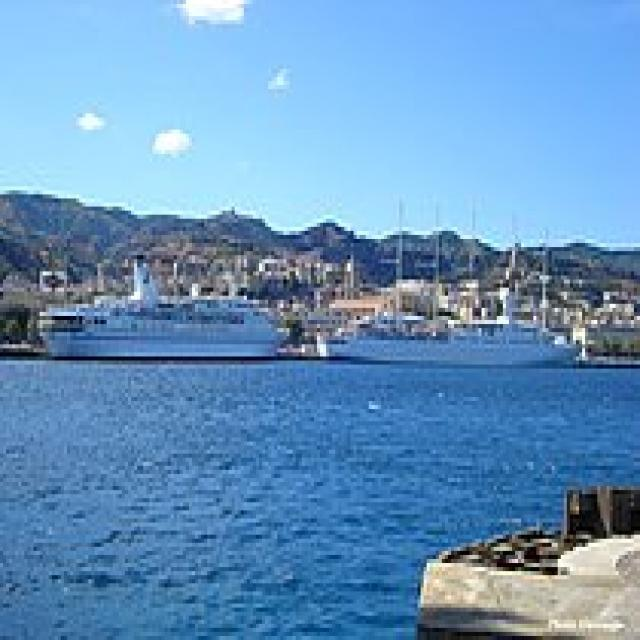Ship: (22, 240, 300, 370)
